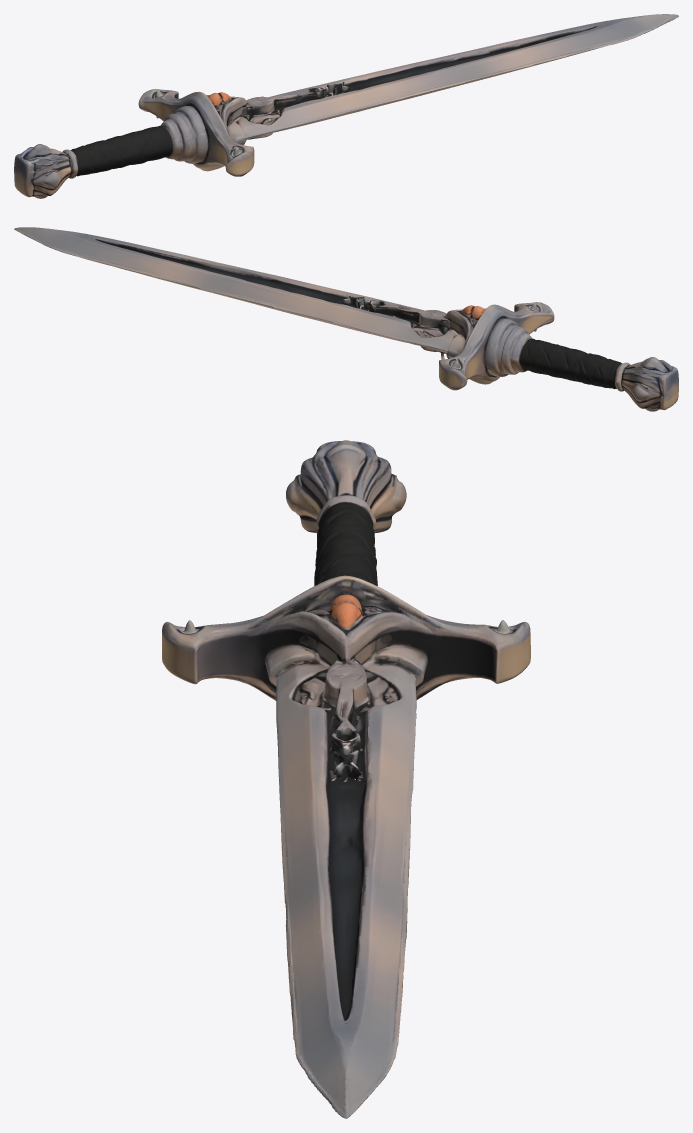
Rendered from model_dbb5aa7a-a29a-42a9-91c1-56d2b4b91437_draco.glb.
The picture shows the model from 3 angles, top to bottom: view 1: azimuth 30°, elevation 25°; view 2: azimuth 150°, elevation 25°; view 3: azimuth 270°, elevation 25°; orthographic projection. The views are drawn at different scales.
Visible parts, largest first — view 1: tripo_node_dbb5aa7a-a29a-42a9-91c1-56d2b4b91437; view 2: tripo_node_dbb5aa7a-a29a-42a9-91c1-56d2b4b91437; view 3: tripo_node_dbb5aa7a-a29a-42a9-91c1-56d2b4b91437.
Part boxes in pixels (<box>): tripo_node_dbb5aa7a-a29a-42a9-91c1-56d2b4b91437: <box>14,14,678,198</box>; tripo_node_dbb5aa7a-a29a-42a9-91c1-56d2b4b91437: <box>14,227,678,411</box>; tripo_node_dbb5aa7a-a29a-42a9-91c1-56d2b4b91437: <box>162,440,530,1118</box>.
Size of the model in its own units: 0.9982 by 0.1112 by 0.2421.
Materials: 1 (1 with a texture image).
